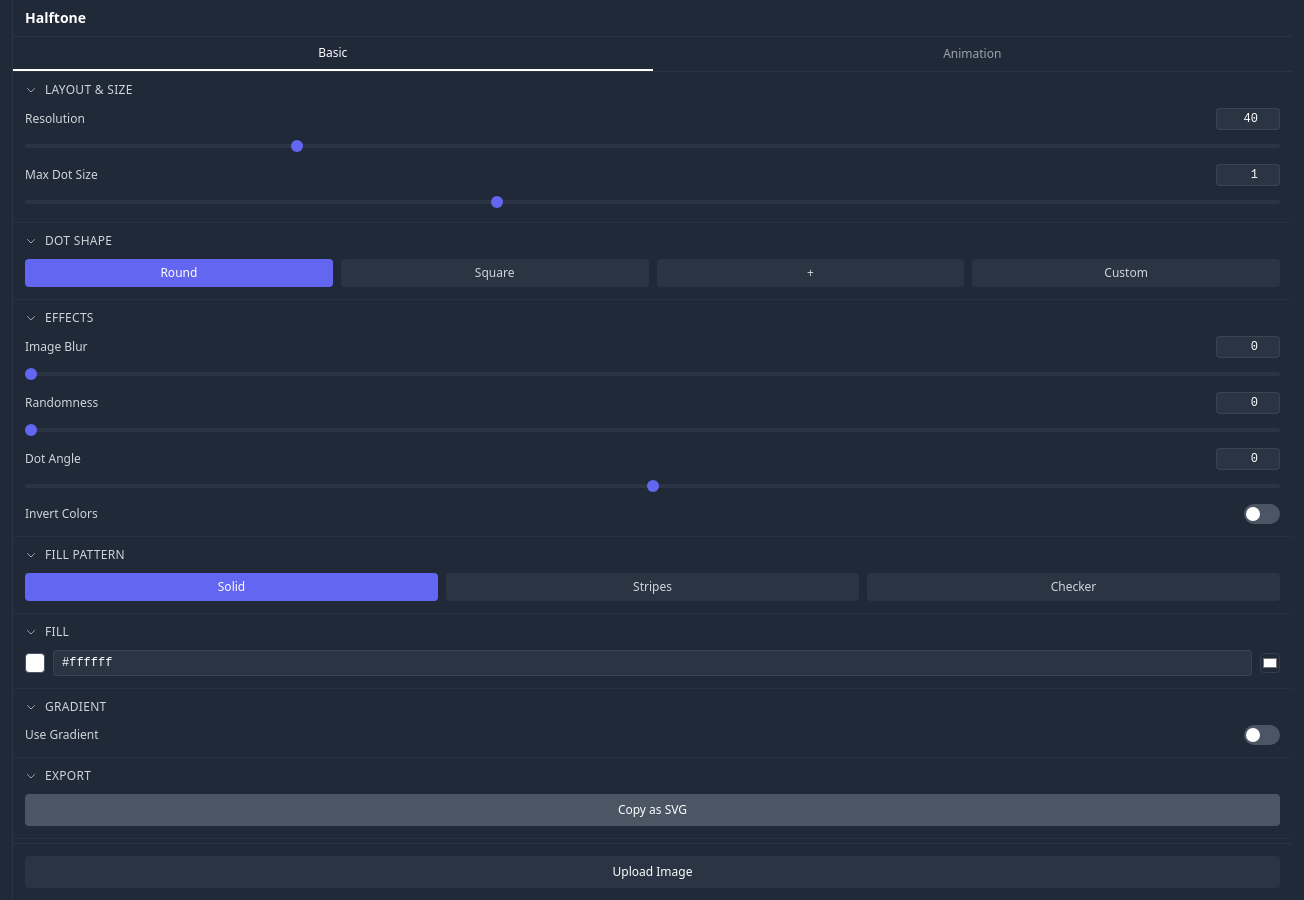
Test case: ControlsPanel tabs in web app › renders Basic tab by default and can switch to Animation tab
Expected: the text "Layout & Size" is shown, x1=45 y1=82 x2=133 y2=98
// Switch to Animation tab
Click the tab "Animation".
click(972, 54)  # box x1=652 y1=37 x2=1292 y2=71
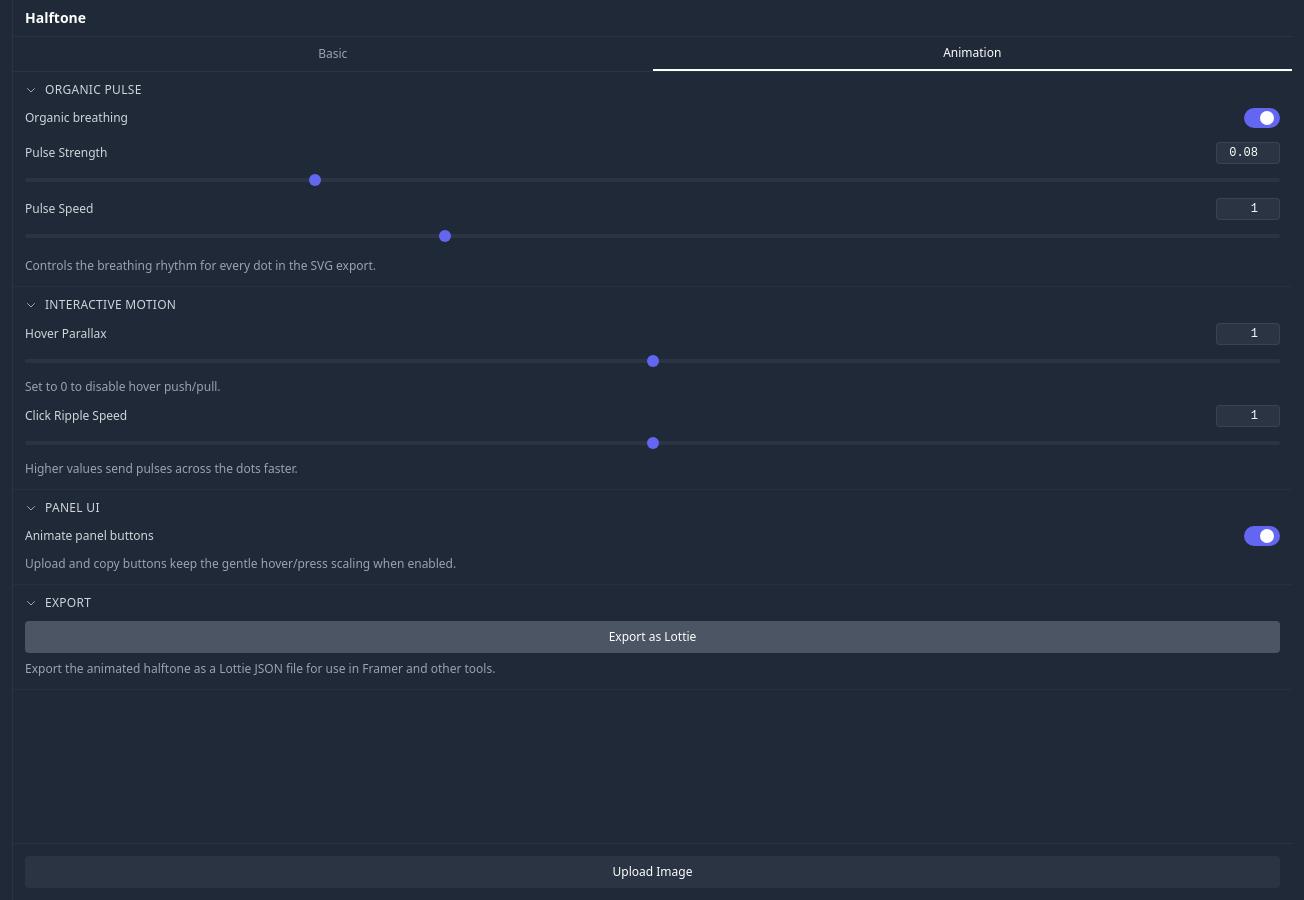
Expected: the text "Organic breathing" is shown, x1=25 y1=110 x2=128 y2=126
